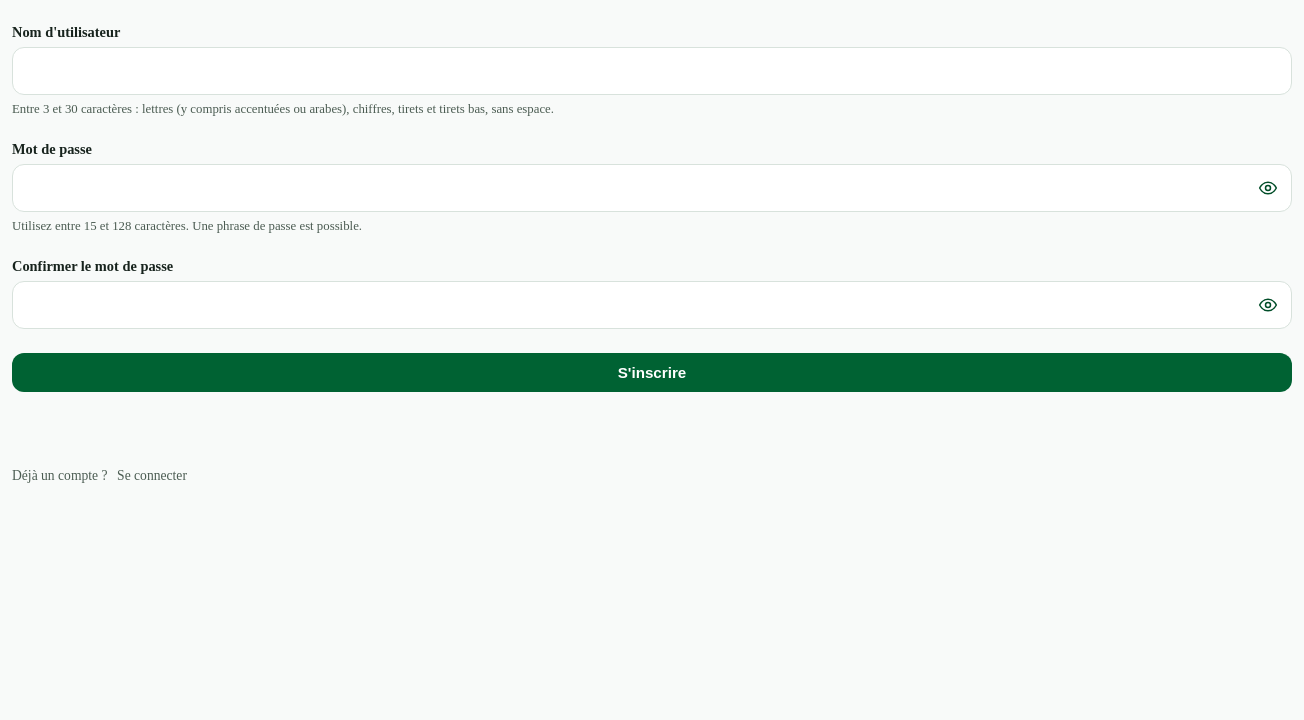
Scenario: RegistrationForm › shows a translated, field-linked error when the username is already taken
Type "jean-dupont_92" into the field labelled "Nom d'utilisateur".
click(652, 71); type("jean-dupont_92")  # box [12,47,1292,95]
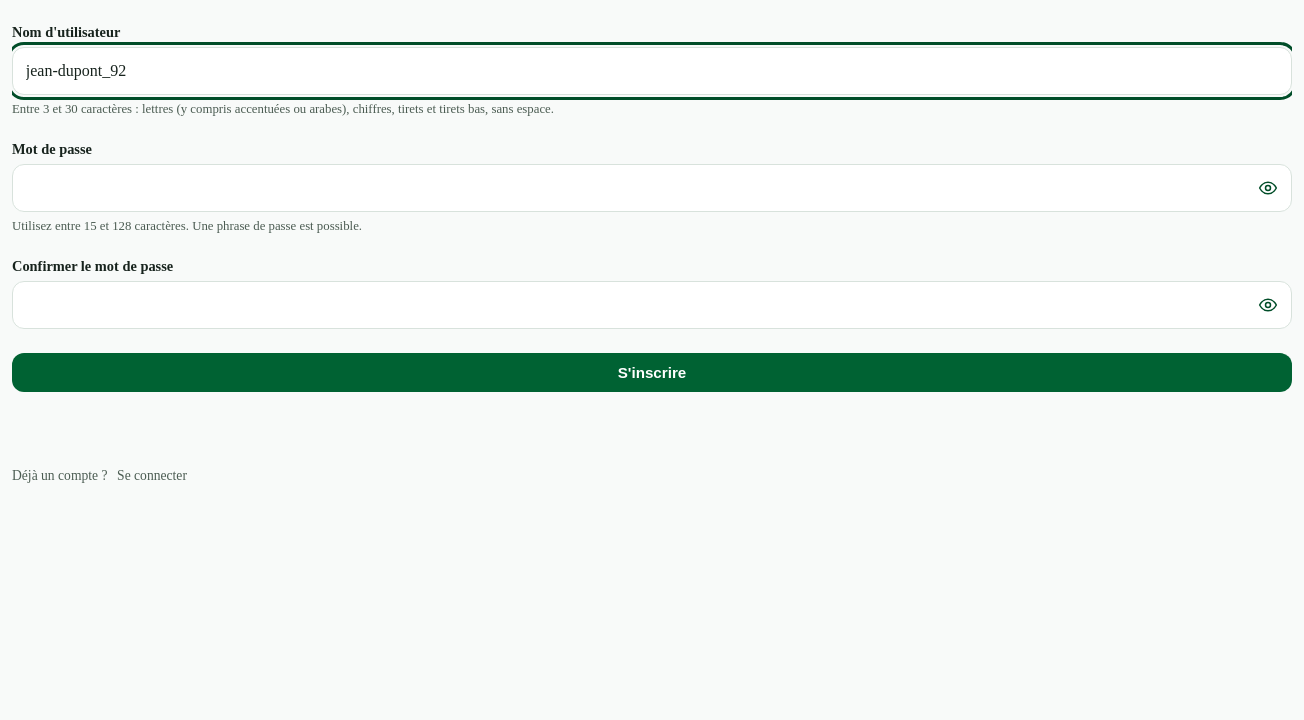
Type "une phrase de passe suffisamment longue" into the password field labelled "Mot de passe".
click(652, 188); type("une phrase de passe suffisamment longue")  # box [12,164,1292,212]
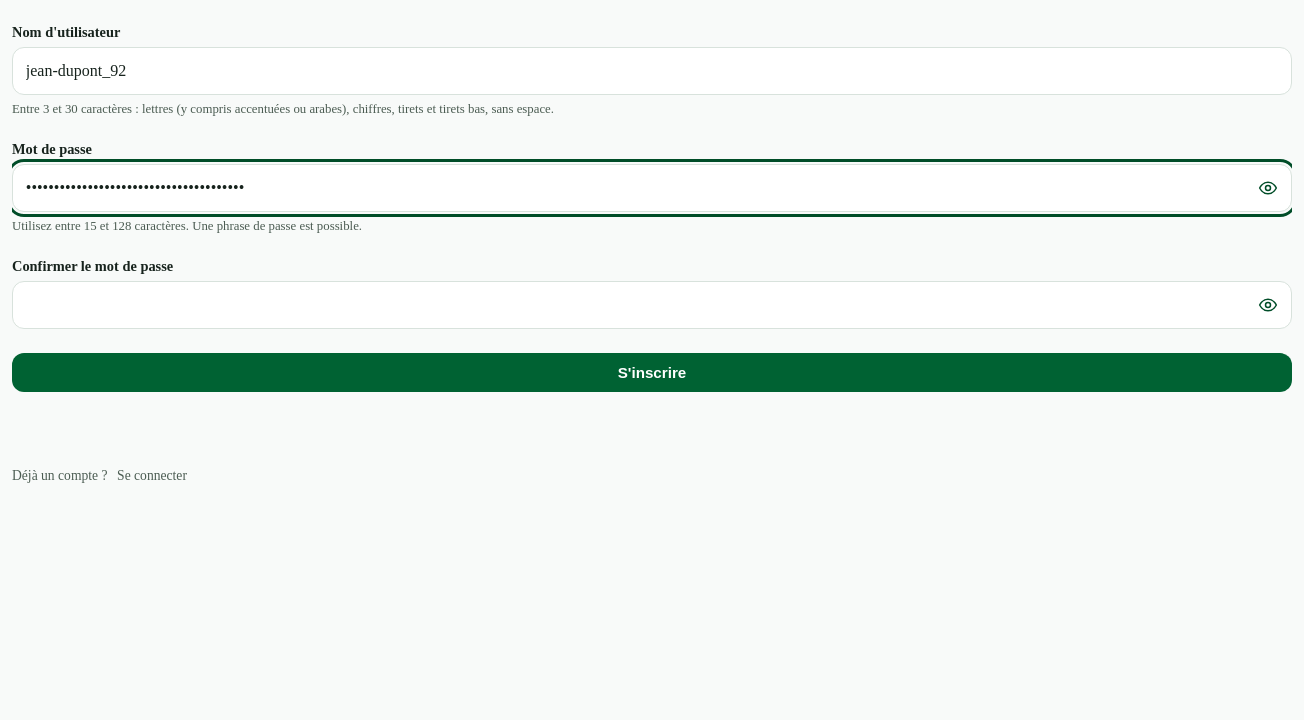
Type "une phrase de passe suffisamment longue" into the password field labelled "Confirmer le mot de passe".
click(652, 305); type("une phrase de passe suffisamment longue")  # box [12,281,1292,329]
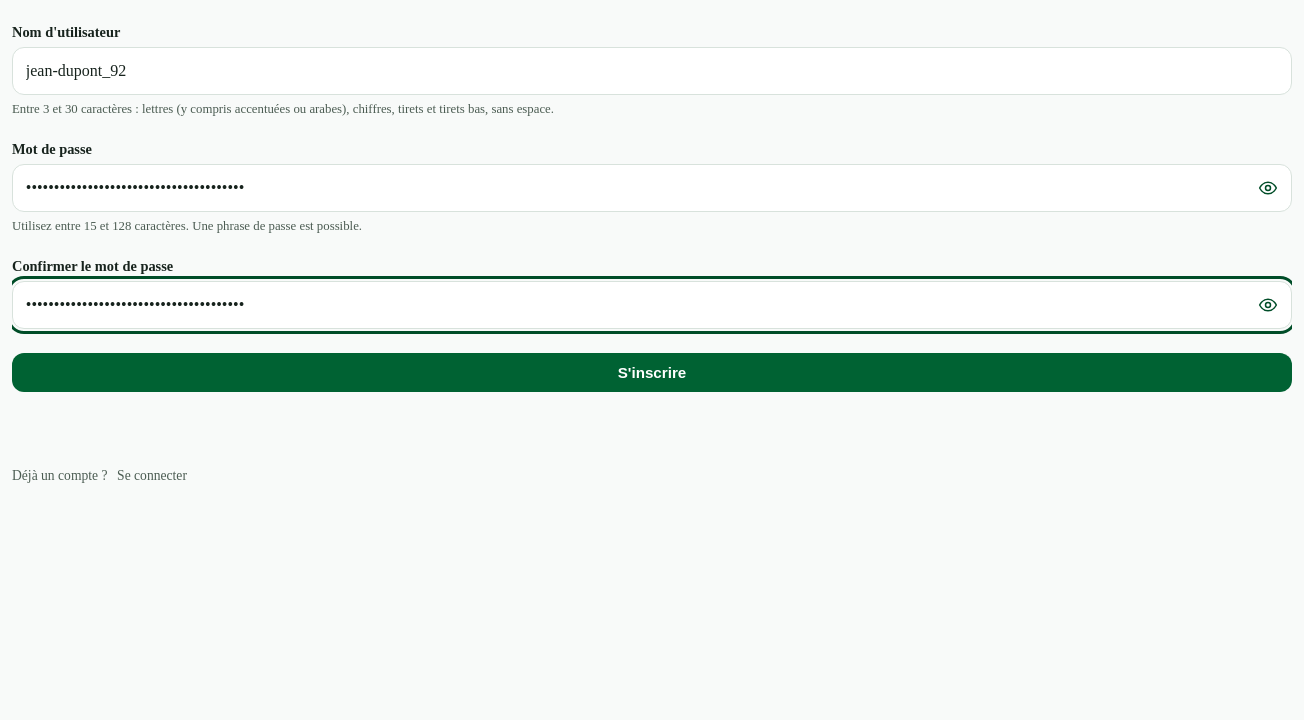
Click the button "S'inscrire".
click(652, 373)  # box [12,353,1292,392]
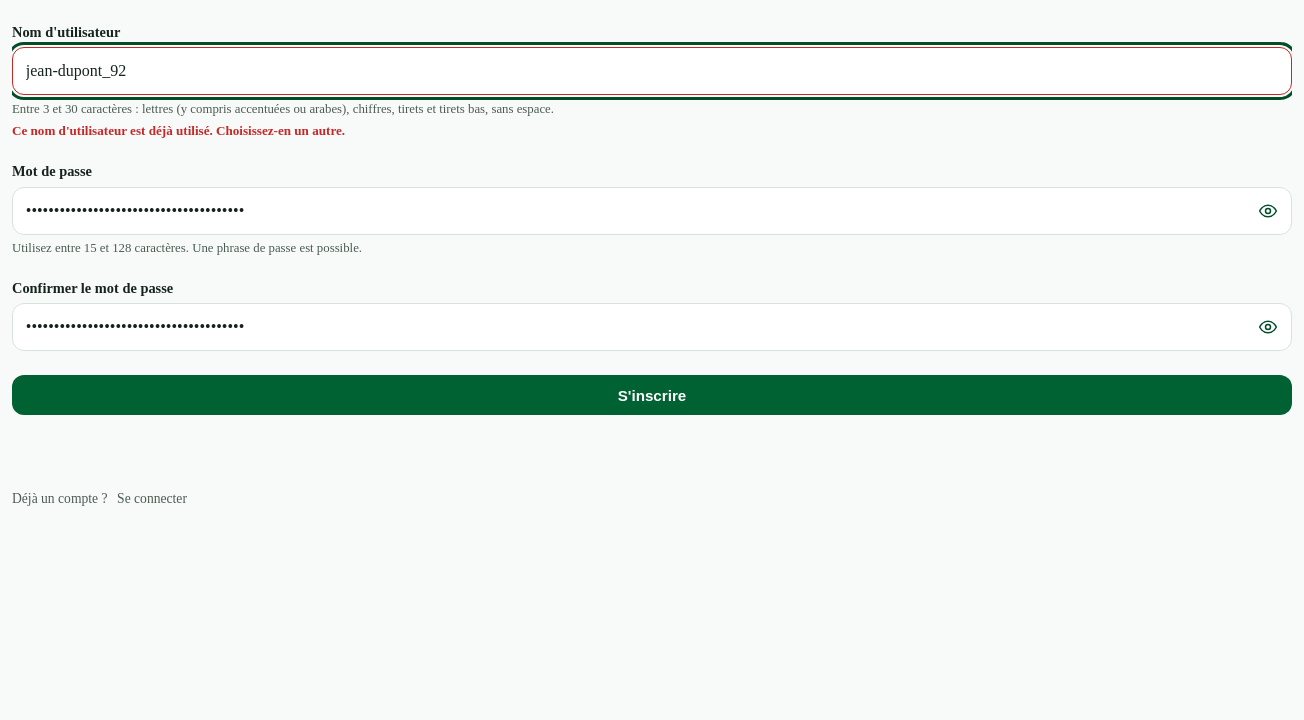
Now the text "Ce nom d'utilisateur est déjà utilisé. Choisissez-en un autre." is shown, box [12,123,345,138]
